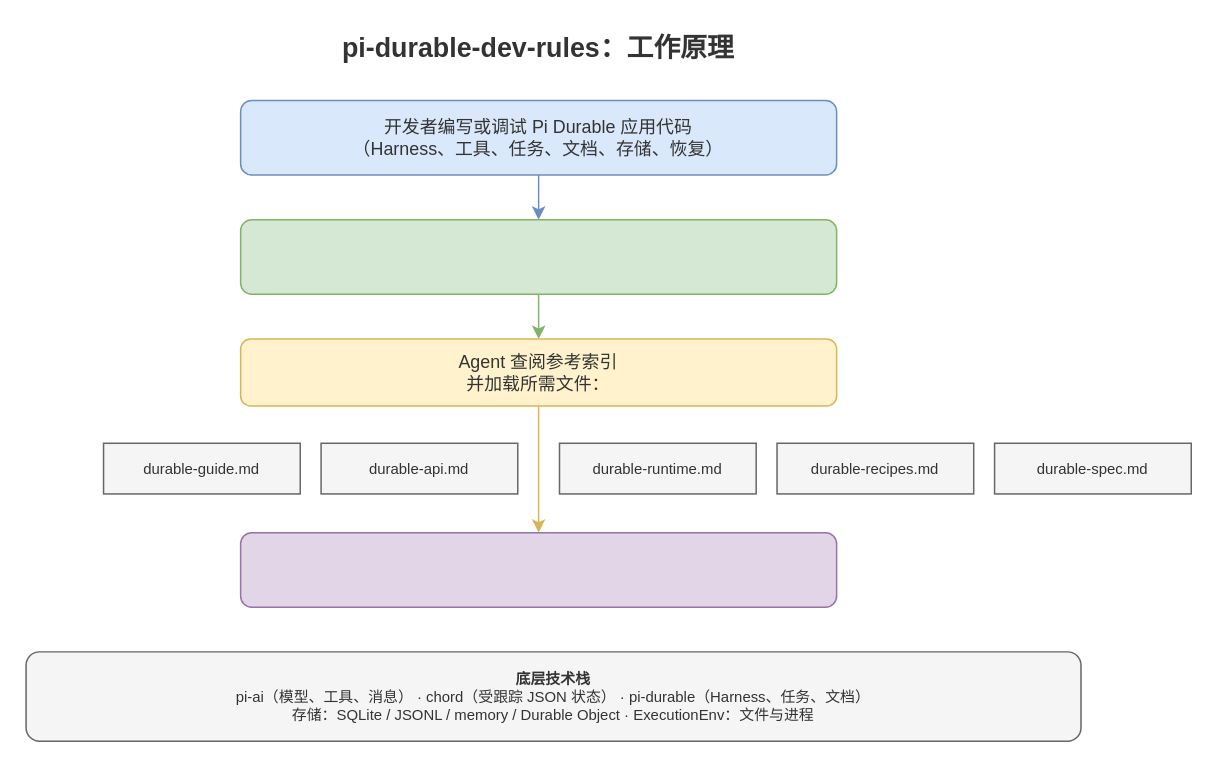
Some shapes in this 1217 by 767 pixel diagram are drawn without their labels. The box of each missing label's shape, as (x1, y1, x2, y2) in pixels:
Agent 加载 SKILL.md （description 与请求匹配）: (239, 218, 837, 294)
正确的应用代码与运行时答案 先提交再可见 · 重放安全 · 遵守所有权: (239, 531, 837, 607)
